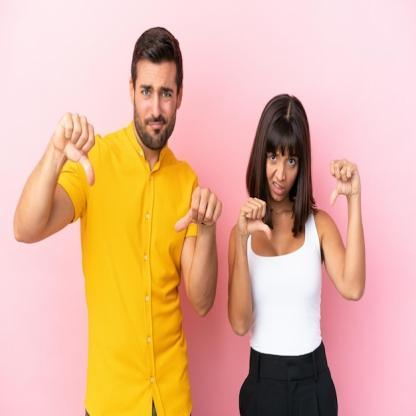thumb_down: (53, 108, 99, 189), (172, 181, 223, 236), (326, 156, 364, 209), (238, 194, 274, 244)
